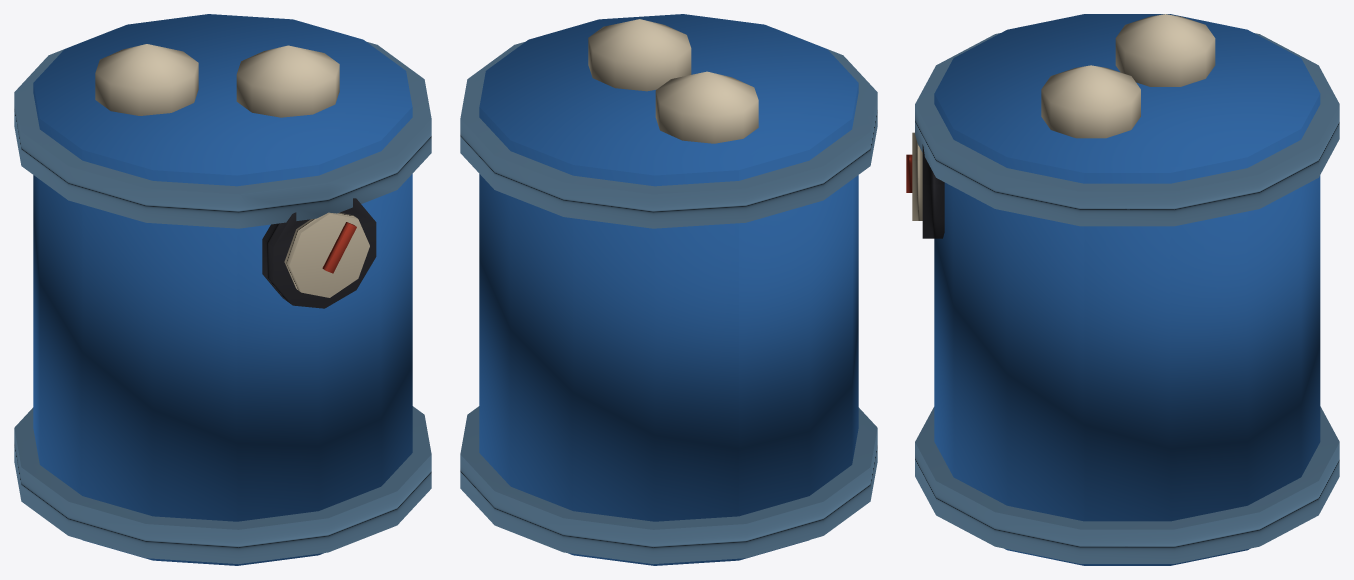
File: cargo_coolant_burst.glb
3 views of the same model, side by side, from view 1: azimuth 30°, elevation 25°; view 2: azimuth 150°, elevation 25°; view 3: azimuth 270°, elevation 25° (orthographic).
Visible parts, largest first — view 1: Blue coolant drum; view 2: Blue coolant drum; view 3: Blue coolant drum.
Boxes of the visible parts, bbox=[...] form: Blue coolant drum: bbox=[14, 14, 431, 565]; Blue coolant drum: bbox=[460, 14, 877, 565]; Blue coolant drum: bbox=[906, 14, 1339, 565].
Bounding box in the file's own units: 0.468 × 0.554 × 0.49.
